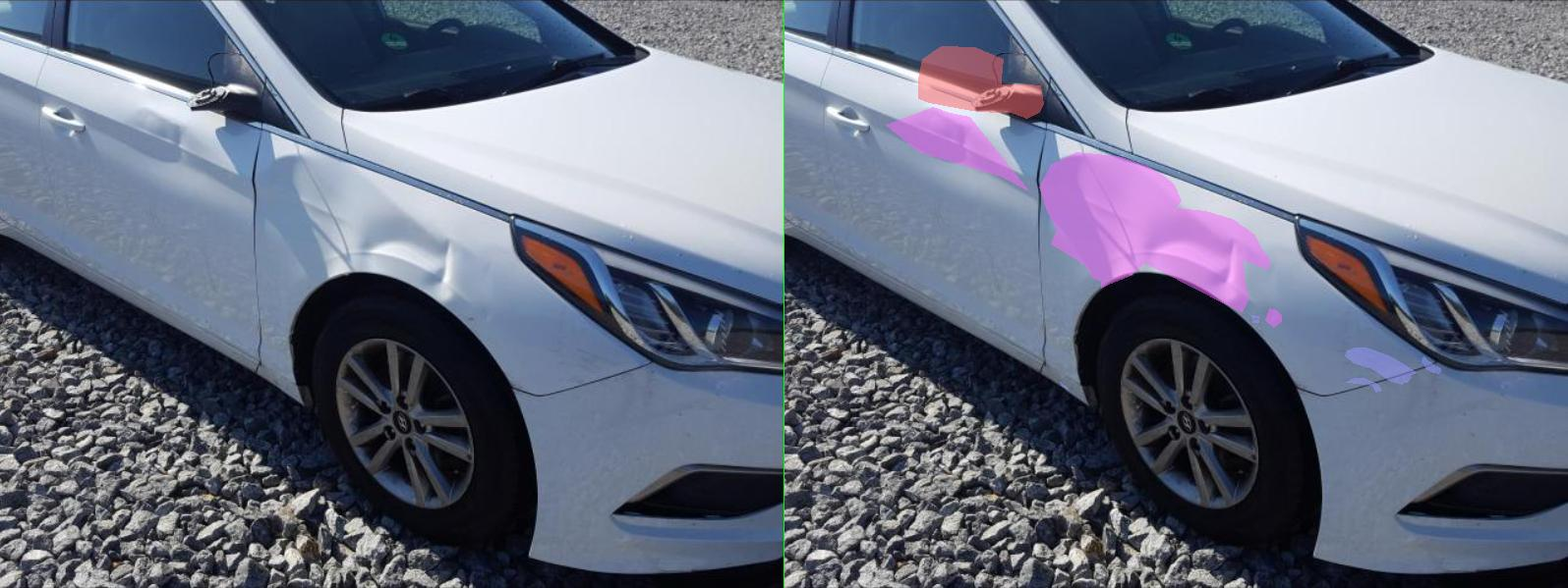Dent: (510, 152, 793, 288), (720, 208, 970, 312), (203, 107, 488, 190), (962, 308, 994, 327)
Missing part: (268, 46, 517, 118)
Scratch: (1121, 347, 1263, 384), (1123, 378, 1194, 392), (1275, 356, 1312, 373), (551, 381, 569, 390), (1228, 377, 1253, 383), (935, 315, 948, 322)
